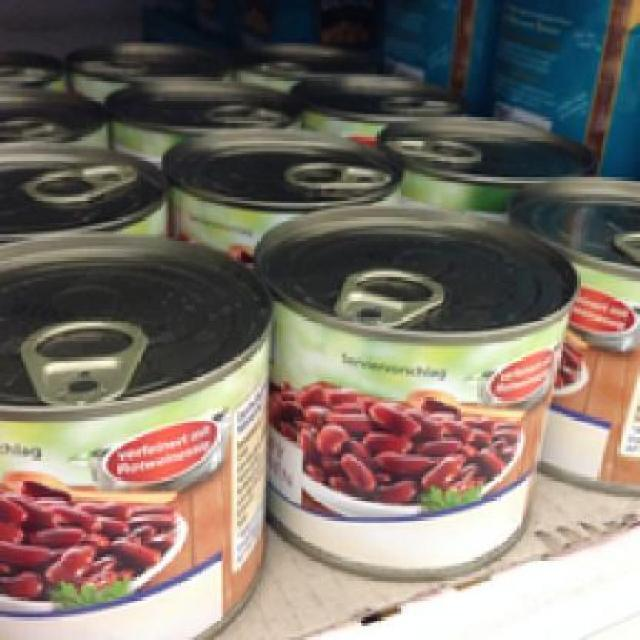Beans: (259, 200, 572, 566), (0, 228, 260, 638)
